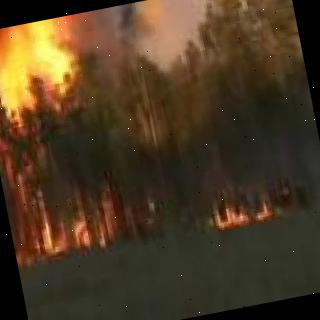fire: (0, 12, 125, 258), (205, 194, 284, 231)
